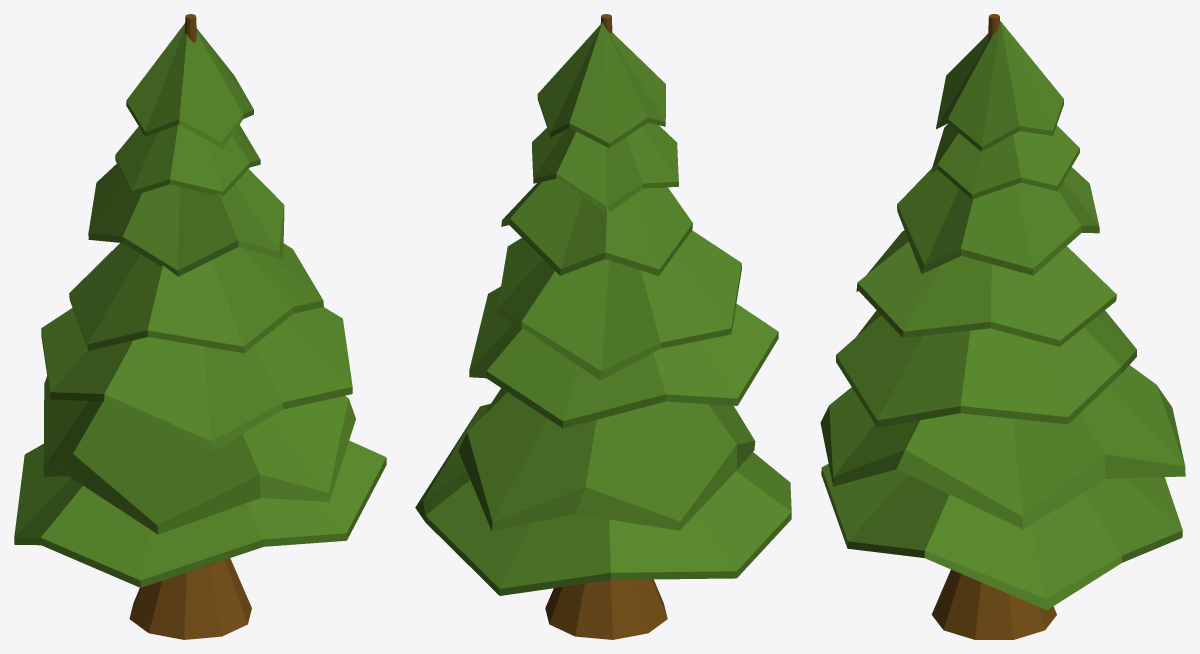
The model's file is Sapin.glb.
3 renders of one model, left to right at view 1: azimuth 30°, elevation 25°; view 2: azimuth 150°, elevation 25°; view 3: azimuth 270°, elevation 25°, orthographic.
Parts seen in each view (by area): view 1: Branch, Trunk; view 2: Branch, Trunk; view 3: Branch, Trunk.
Part boxes in pixels (left/top/right/bottom): Branch: left=14, top=23, right=386, bottom=587; Trunk: left=129, top=14, right=251, bottom=639; Branch: left=415, top=22, right=791, bottom=595; Trunk: left=545, top=14, right=667, bottom=639; Branch: left=820, top=21, right=1185, bottom=610; Trunk: left=931, top=14, right=1056, bottom=639.
Size of the model in its own units: 6.13 by 10.52 by 5.82.
